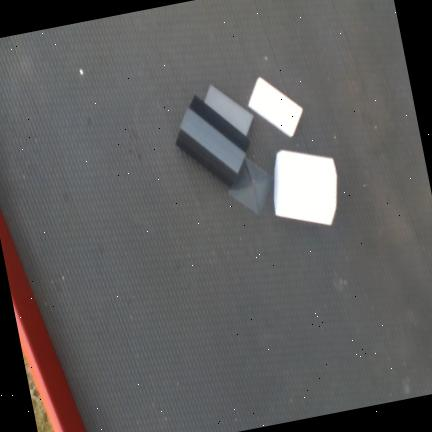Paralelepipedo: (248, 76, 304, 137), (204, 83, 253, 137)
Piramide: (229, 156, 274, 216)
Prisma_hexagonal: (175, 95, 250, 188), (274, 150, 337, 226)
